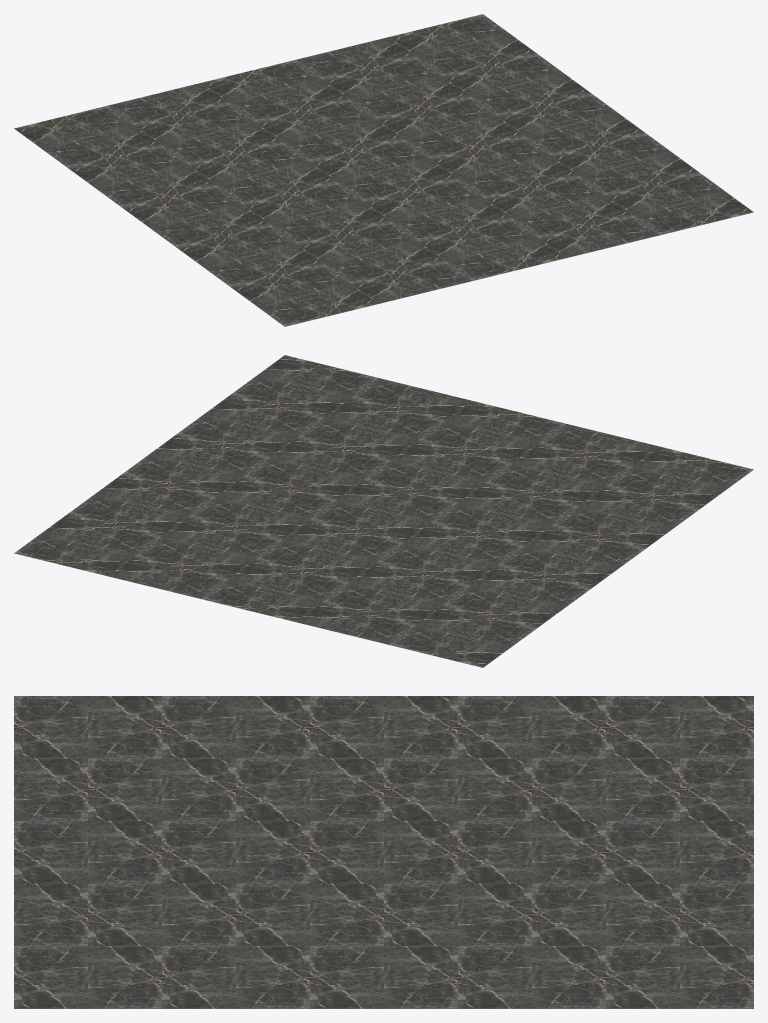
Rendered from petra-80x160.glb.
3 views of the same model, one above another, from view 1: azimuth 30°, elevation 25°; view 2: azimuth 150°, elevation 25°; view 3: azimuth 270°, elevation 25° (orthographic). The views are drawn at different scales.
Parts seen in each view (by area): view 1: Petra; view 2: Petra; view 3: Petra.
Boxes of the visible parts, x1=… form: Petra: x1=14, y1=14, x2=753, y2=326; Petra: x1=14, y1=355, x2=753, y2=667; Petra: x1=14, y1=696, x2=753, y2=1008.
Size of the model in its own units: 8 by 0.003 by 8.
Materials: 2 (1 with a texture image).
